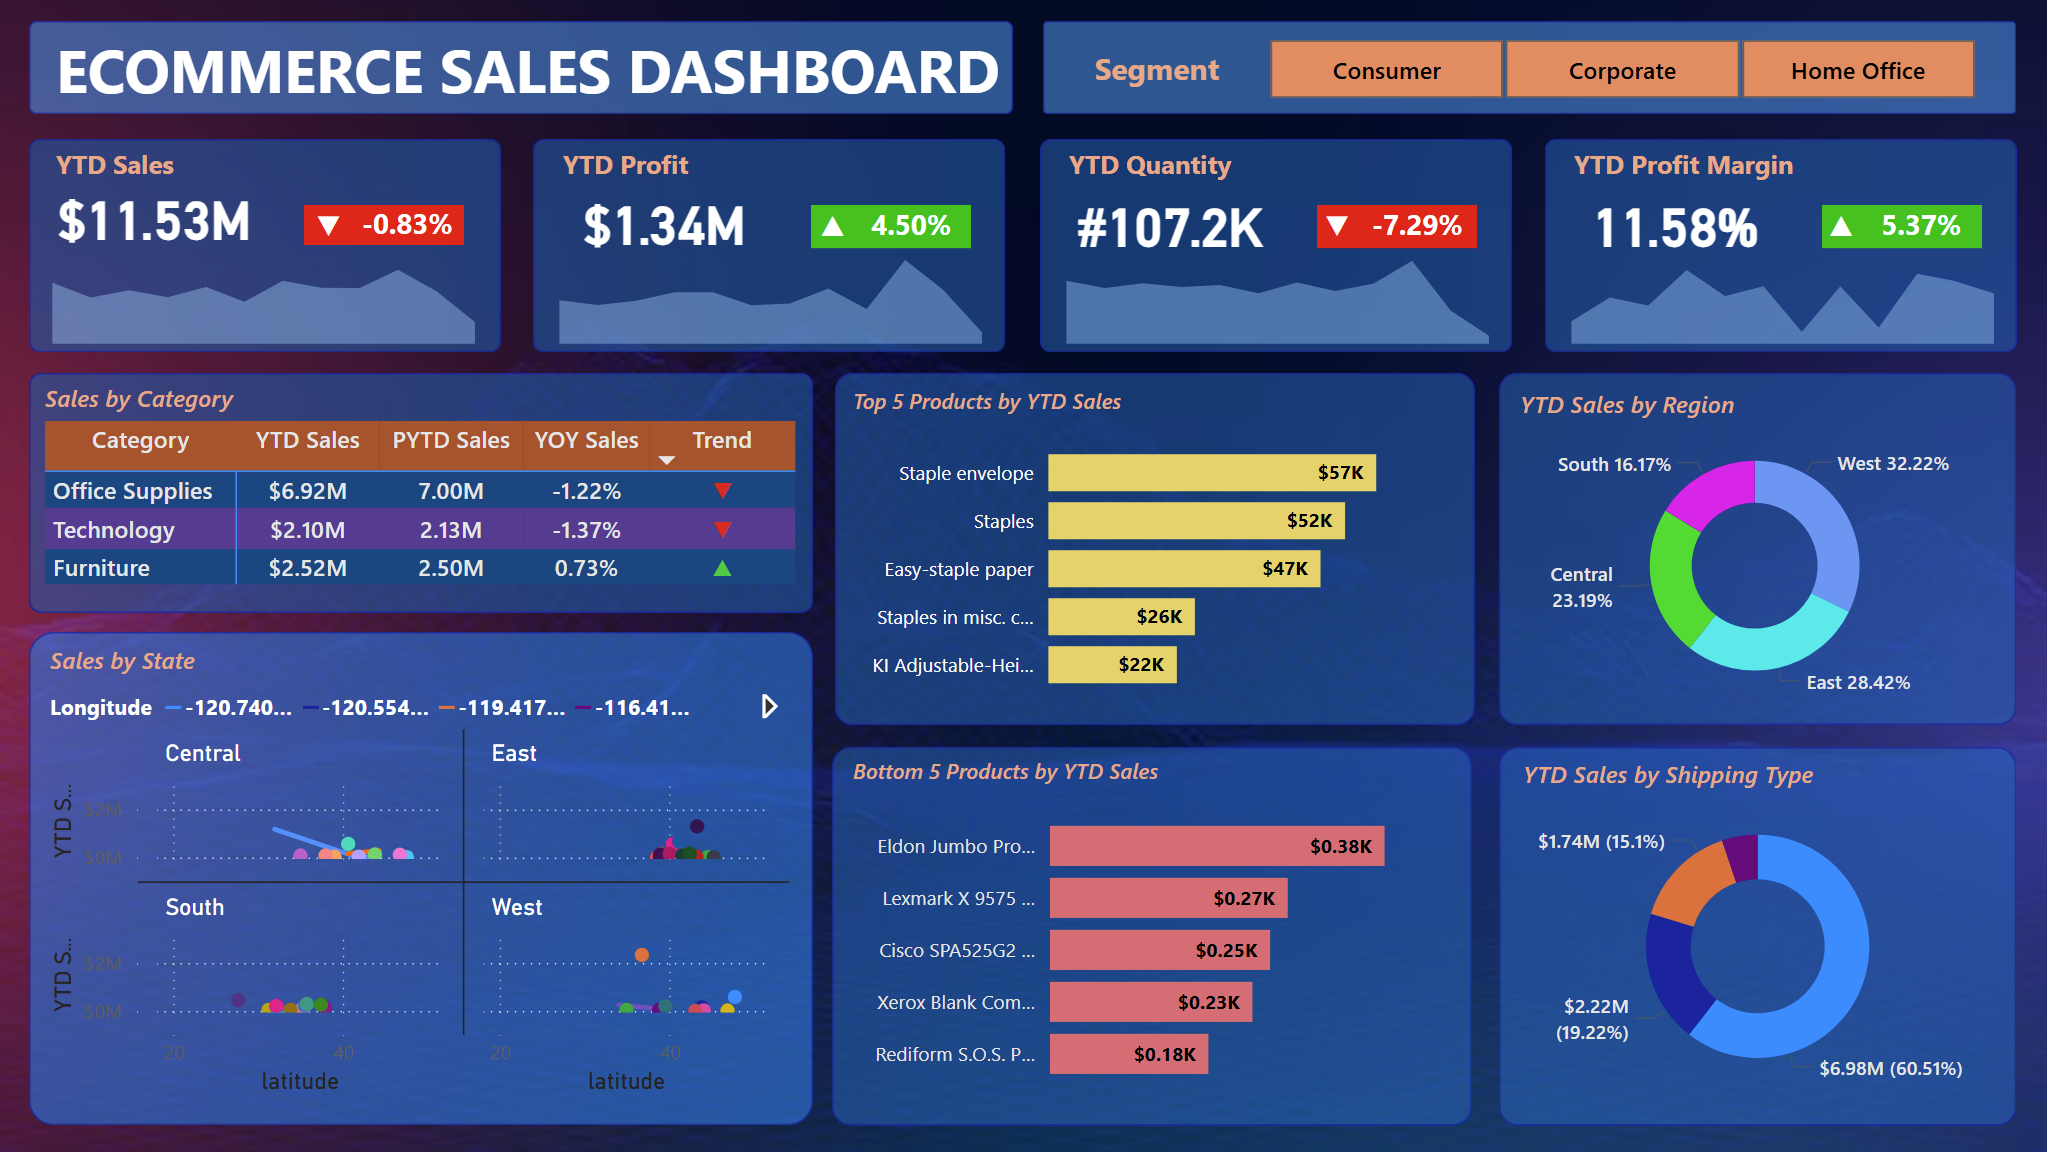

The page's visual inventory and layout, read from the dashboard file:
{"tool":"powerbi","page":{"name":"Page 1","canvas":[1280,720],"ordinal":0},"visuals":[{"type":"shape","box":[18.3,86.7,295,133.3],"z":0},{"type":"areaChart","fields":{"Y":["Sum(ecommerce_data.sales_per_order)"],"Category":["Calendar.Month"]},"box":[18.3,146.7,293.3,73.3],"z":1000},{"type":"shape","box":[190,128.3,100,25],"z":2000},{"type":"card","fields":{"Values":["ecommerce_data.YOY Sales"]},"box":[216.7,128.3,75,27],"z":3000},{"type":"shape","box":[18.3,13.3,615,58.3],"z":4000},{"type":"textbox","box":[30,13.3,618.3,59],"z":5000},{"type":"card","fields":{"Values":["ecommerce_data.Sales Icon"]},"box":[191.7,128.3,26.7,25],"z":6000},{"type":"textbox","box":[30,86.7,92,35],"z":7000},{"type":"card","fields":{"Values":["ecommerce_data.YTD Sales"]},"box":[28.3,113.3,136.7,45],"z":8000},{"type":"shape","box":[333.3,86.7,295,133.3],"z":9000},{"type":"areaChart","fields":{"Category":["Calendar.Month"],"Y":["Sum(ecommerce_data.profit_per_order)"]},"box":[335,146.7,293.3,73.3],"z":10000},{"type":"shape","box":[506.7,128.3,100,26.7],"z":11000},{"type":"card","fields":{"Values":["ecommerce_data.YOY Profit"]},"box":[531.7,128.3,75,28.3],"z":12000},{"type":"card","fields":{"Values":["ecommerce_data.Profit Icon"]},"box":[506.7,128.3,26.7,25],"z":13000},{"type":"textbox","box":[346.7,86.7,101,35],"z":14000},{"type":"card","fields":{"Values":["ecommerce_data.YTD profit"]},"box":[346.7,116.7,136.7,43.3],"z":15000},{"type":"shape","box":[650,86.7,295,133.3],"z":16000},{"type":"areaChart","fields":{"Category":["Calendar.Month"],"Y":["Sum(ecommerce_data.order_quantity)"]},"box":[651.7,146.7,293.3,73.3],"z":17000},{"type":"shape","box":[823.3,128.3,100,26.7],"z":18000},{"type":"card","fields":{"Values":["ecommerce_data.YOY Qty"]},"box":[848.3,128.3,75,28.3],"z":19000},{"type":"card","fields":{"Values":["ecommerce_data.Qty Icon"]},"box":[823.3,128.3,25,25],"z":20000},{"type":"textbox","box":[663.3,86.7,120,35],"z":21000},{"type":"card","fields":{"Values":["ecommerce_data.YTD Concate Qty"]},"box":[663.3,118.3,136.7,43.3],"z":22000},{"type":"shape","box":[965.6,86.7,295,133.3],"z":23000},{"type":"areaChart","fields":{"Category":["Calendar.Month"],"Y":["ecommerce_data.Profit Margin"]},"box":[967.2,146.7,293.3,73.3],"z":24000},{"type":"shape","box":[1138.9,128.3,100,26.7],"z":25000},{"type":"card","fields":{"Values":["ecommerce_data.YOY ProfitMargin"]},"box":[1163.3,128.3,75,28.3],"z":26000},{"type":"card","fields":{"Values":["ecommerce_data.Profit Margin Icon"]},"box":[1138.3,128.3,25,25],"z":27000},{"type":"textbox","box":[978.9,86.7,160,35],"z":28000},{"type":"card","fields":{"Values":["ecommerce_data.YTD Profit Margin"]},"box":[978.9,118.3,136.7,43.3],"z":29000},{"type":"shape","box":[18.3,233.3,490,150],"z":30000},{"type":"shape","box":[18.3,395,490,308.3],"z":31000},{"type":"pivotTable","title":"Sales by Category","fields":{"Rows":["ecommerce_data.category_name"],"Values":["ecommerce_data.YTD Sales","ecommerce_data.PYTD Sales","ecommerce_data.YOY Sales","ecommerce_data.Sales Icon"]},"box":[23.3,238.3,481.7,135],"z":32000},{"type":"shape","box":[521.7,233.3,400,220],"z":33000},{"type":"lineChart","title":"Sales by State","fields":{"Category":["us_state_long_lat_codes.latitude"],"Series":["us_state_long_lat_codes.longitude"],"Y":["ecommerce_data.YTD Sales"],"Rows":["ecommerce_data.customer_region"]},"box":[26.5,402,473.7,288.1],"z":34000},{"type":"shape","box":[936.7,233.3,323.3,220],"z":35000},{"type":"shape","box":[520,466.7,400,236.7],"z":36000},{"type":"barChart","title":"Top 5 Products by YTD Sales ","fields":{"Category":["ecommerce_data.product_name"],"Y":["ecommerce_data.YTD Sales"]},"box":[528.3,241.7,383,203],"z":37000},{"type":"barChart","title":"Bottom 5 Products by YTD Sales ","fields":{"Category":["ecommerce_data.product_name"],"Y":["ecommerce_data.YTD Sales"]},"box":[528.3,473.3,383.3,217],"z":38000},{"type":"shape","box":[936.7,466.7,323.3,236.7],"z":39000},{"type":"donutChart","title":"YTD Sales by Region","fields":{"Category":["ecommerce_data.customer_region"],"Y":["ecommerce_data.YTD Sales"]},"box":[945,241.7,303.3,203.3],"z":40000},{"type":"donutChart","title":"YTD Sales by Shipping Type","fields":{"Y":["ecommerce_data.YTD Sales"],"Category":["ecommerce_data.shipping_type"]},"box":[946.7,473.3,303.3,216.7],"z":41000},{"type":"shape","box":[651.7,13.3,608.3,58.3],"z":42000},{"type":"slicer","fields":{"Values":["ecommerce_data.customer_segment"]},"box":[768.3,18.3,490,50],"z":43000},{"type":"textbox","box":[663.3,30,120,38.3],"z":44000}]}

Visuals, with their boxes in screenshot pixels (x1, y1, x2, y2), scaled from the page's 1280x720 canvas onto the 2047x1152 screenshot:
shape: crop(29, 139, 501, 352)
areaChart - Sum(ecommerce_data.sales_per_order) x Calendar.Month: crop(29, 235, 498, 352)
shape: crop(304, 205, 464, 245)
card - ecommerce_data.YOY Sales: crop(347, 205, 466, 248)
shape: crop(29, 21, 1013, 115)
textbox: crop(48, 21, 1037, 116)
card - ecommerce_data.Sales Icon: crop(307, 205, 349, 245)
textbox: crop(48, 139, 195, 195)
card - ecommerce_data.YTD Sales: crop(45, 181, 264, 253)
shape: crop(533, 139, 1005, 352)
areaChart - Calendar.Month x Sum(ecommerce_data.profit_per_order): crop(536, 235, 1005, 352)
shape: crop(810, 205, 970, 248)
card - ecommerce_data.YOY Profit: crop(850, 205, 970, 251)
card - ecommerce_data.Profit Icon: crop(810, 205, 853, 245)
textbox: crop(554, 139, 716, 195)
card - ecommerce_data.YTD profit: crop(554, 187, 773, 256)
shape: crop(1039, 139, 1511, 352)
areaChart - Calendar.Month x Sum(ecommerce_data.order_quantity): crop(1042, 235, 1511, 352)
shape: crop(1317, 205, 1477, 248)
card - ecommerce_data.YOY Qty: crop(1357, 205, 1477, 251)
card - ecommerce_data.Qty Icon: crop(1317, 205, 1357, 245)
textbox: crop(1061, 139, 1253, 195)
card - ecommerce_data.YTD Concate Qty: crop(1061, 189, 1279, 259)
shape: crop(1544, 139, 2016, 352)
areaChart - Calendar.Month x ecommerce_data.Profit Margin: crop(1547, 235, 2016, 352)
shape: crop(1821, 205, 1981, 248)
card - ecommerce_data.YOY ProfitMargin: crop(1860, 205, 1980, 251)
card - ecommerce_data.Profit Margin Icon: crop(1820, 205, 1860, 245)
textbox: crop(1565, 139, 1821, 195)
card - ecommerce_data.YTD Profit Margin: crop(1565, 189, 1784, 259)
shape: crop(29, 373, 813, 613)
shape: crop(29, 632, 813, 1125)
"Sales by Category" pivotTable: crop(37, 381, 808, 597)
shape: crop(834, 373, 1474, 725)
"Sales by State" lineChart: crop(42, 643, 800, 1104)
shape: crop(1498, 373, 2015, 725)
shape: crop(832, 747, 1471, 1125)
"Top 5 Products by YTD Sales " barChart: crop(845, 387, 1457, 712)
"Bottom 5 Products by YTD Sales " barChart: crop(845, 757, 1458, 1104)
shape: crop(1498, 747, 2015, 1125)
"YTD Sales by Region" donutChart: crop(1511, 387, 1996, 712)
"YTD Sales by Shipping Type" donutChart: crop(1514, 757, 1999, 1104)
shape: crop(1042, 21, 2015, 115)
slicer - ecommerce_data.customer_segment: crop(1229, 29, 2012, 109)
textbox: crop(1061, 48, 1253, 109)
